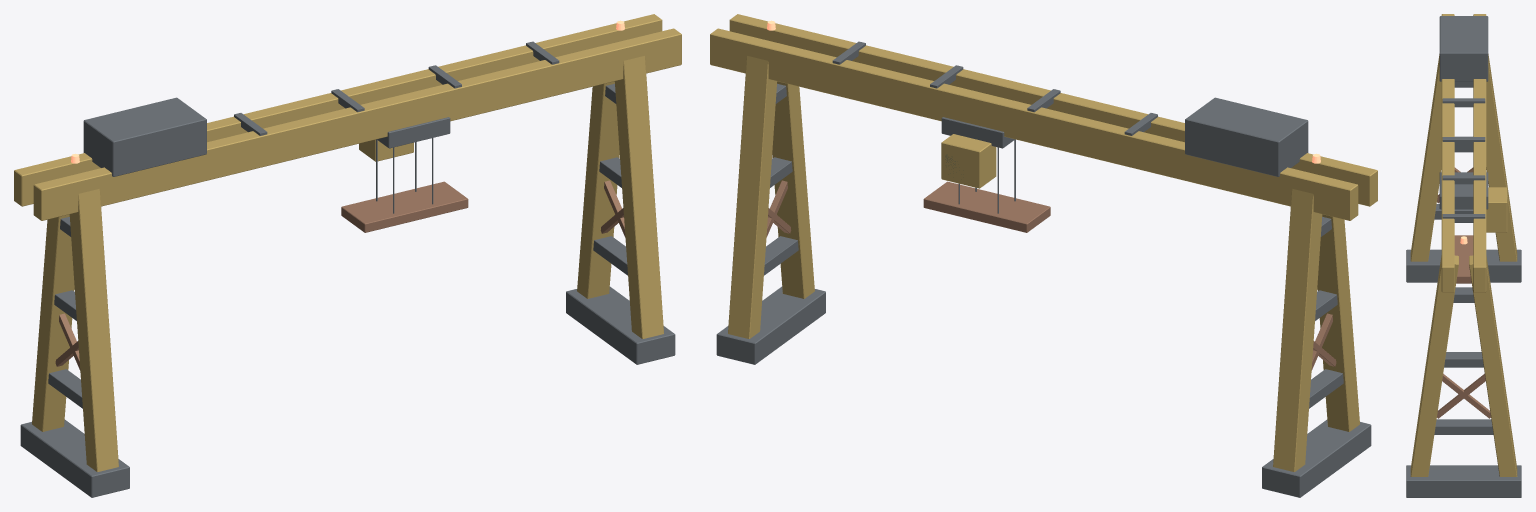
Rendered from ship_gantry_crane.glb.
3 views of the same model, side by side, from view 1: azimuth 30°, elevation 25°; view 2: azimuth 150°, elevation 25°; view 3: azimuth 270°, elevation 25° (orthographic). The views are drawn at different scales.
Parts seen in each view (by area): view 1: Girder_-1.05, Girder_1.05, Leg_-16.8_-1, Leg_16.8_-1, MachHouse, Leg_-16.8_1, Leg_16.8_1, Bogie_16.8, Bogie_-16.8, Spreader, Trolley, Tie_16.8_4.6 (+1 smaller); view 2: Girder_1.05, Girder_-1.05, Leg_-16.8_1, Leg_16.8_1, MachHouse, Leg_-16.8_-1, Leg_16.8_-1, Bogie_16.8, Bogie_-16.8, Spreader, OpCab, Trolley (+2 smaller); view 3: Leg_16.8_-1, Leg_16.8_1, Bogie_16.8, MachHouse, Leg_-16.8_-1, Girder_-1.05, Girder_1.05, Leg_-16.8_1, Bogie_-16.8, OpCab, Tie_16.8_4.6, Trolley (+11 smaller).
Part boxes in pixels (x1=…): Girder_-1.05: x1=33, y1=28, x2=681, y2=220; Girder_1.05: x1=14, y1=14, x2=662, y2=206; Leg_-16.8_-1: x1=69, y1=189, x2=118, y2=471; Leg_16.8_-1: x1=614, y1=56, x2=663, y2=338; MachHouse: x1=83, y1=97, x2=206, y2=176; Leg_-16.8_1: x1=32, y1=214, x2=74, y2=431; Leg_16.8_1: x1=577, y1=81, x2=619, y2=298; Bogie_16.8: x1=566, y1=286, x2=675, y2=364; Bogie_-16.8: x1=20, y1=419, x2=129, y2=497; Spreader: x1=341, y1=181, x2=468, y2=232; Trolley: x1=377, y1=117, x2=450, y2=148; Tie_16.8_4.6: x1=593, y1=236, x2=627, y2=275; Girder_1.05: x1=710, y1=28, x2=1358, y2=220; Girder_-1.05: x1=729, y1=14, x2=1377, y2=206; Leg_-16.8_1: x1=1273, y1=189, x2=1322, y2=471; Leg_16.8_1: x1=728, y1=56, x2=777, y2=338; MachHouse: x1=1185, y1=97, x2=1308, y2=176; Leg_-16.8_-1: x1=1317, y1=214, x2=1359, y2=431; Leg_16.8_-1: x1=772, y1=81, x2=814, y2=298; Bogie_16.8: x1=716, y1=286, x2=825, y2=364; Bogie_-16.8: x1=1262, y1=419, x2=1371, y2=497; Spreader: x1=923, y1=181, x2=1050, y2=232; OpCab: x1=941, y1=134, x2=996, y2=188; Trolley: x1=941, y1=117, x2=1014, y2=148; Leg_16.8_-1: x1=1410, y1=255, x2=1458, y2=476; Leg_16.8_1: x1=1469, y1=255, x2=1517, y2=476; Bogie_16.8: x1=1406, y1=465, x2=1521, y2=497; MachHouse: x1=1439, y1=16, x2=1488, y2=81; Leg_-16.8_-1: x1=1410, y1=54, x2=1441, y2=261; Girder_-1.05: x1=1441, y1=14, x2=1454, y2=292; Girder_1.05: x1=1473, y1=14, x2=1486, y2=292; Leg_-16.8_1: x1=1486, y1=54, x2=1517, y2=261; Bogie_-16.8: x1=1406, y1=249, x2=1521, y2=282; OpCab: x1=1486, y1=187, x2=1507, y2=232; Tie_16.8_4.6: x1=1434, y1=419, x2=1493, y2=434; Trolley: x1=1439, y1=172, x2=1488, y2=209.
Size of the model in its own units: 39.5 by 19.5 by 7.6.
